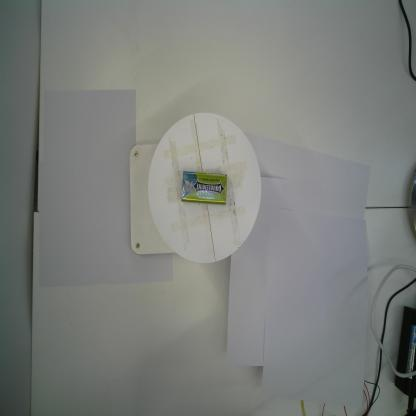Gum: (182, 171, 227, 205)
